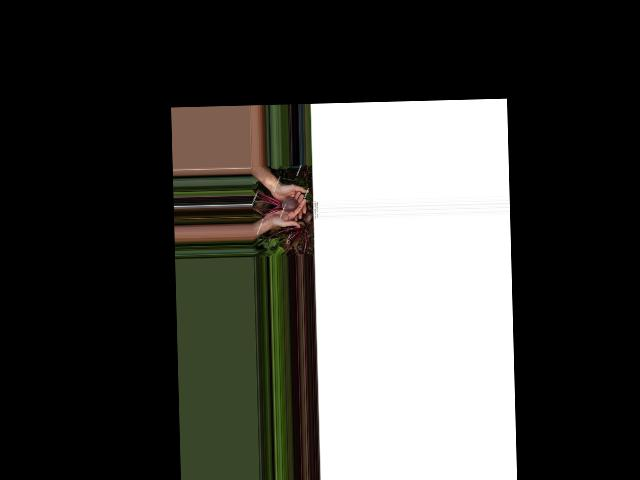beet: (253, 187, 299, 216)
